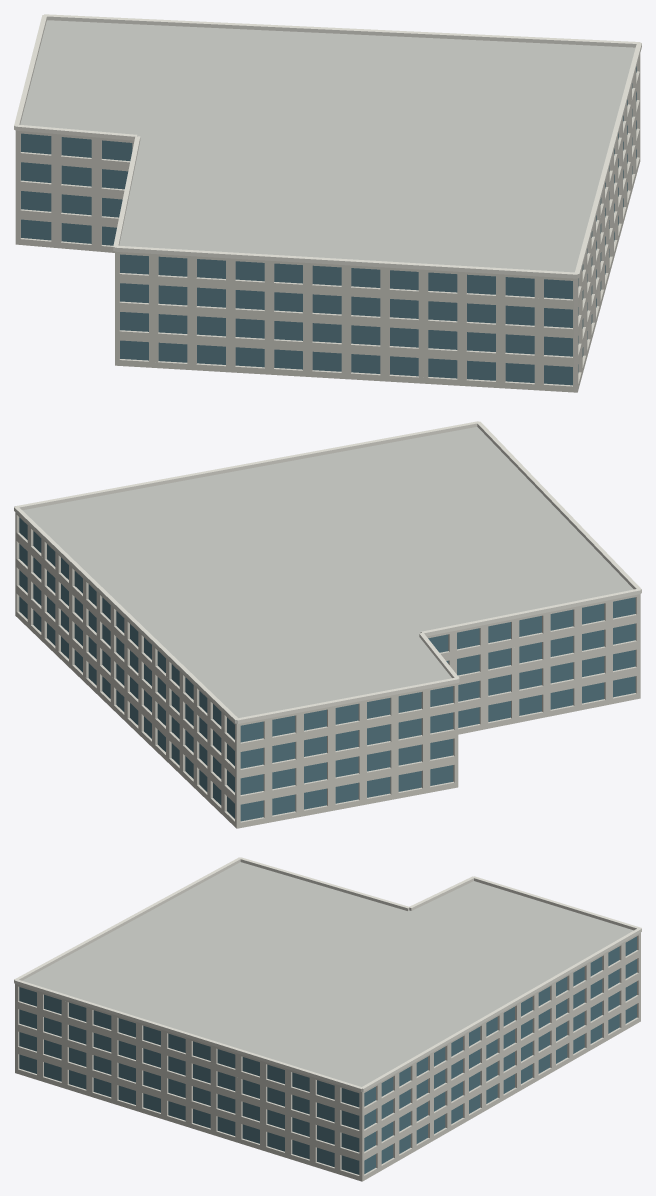
The model's file is sb_1556523917.far.glb.
3 renders of one model, top to bottom at view 1: azimuth 30°, elevation 25°; view 2: azimuth 150°, elevation 25°; view 3: azimuth 270°, elevation 25°, orthographic. The views are drawn at different scales.
Parts seen in each view (by area): view 1: roof, wall, glass, trim; view 2: roof, wall, glass, trim; view 3: roof, wall, glass, trim.
Boxes of the visible parts, x1=… form: roof: x1=20, y1=20, x2=635, y2=272; wall: x1=15, y1=54, x2=640, y2=392; glass: x1=21, y1=66, x2=636, y2=385; trim: x1=14, y1=14, x2=641, y2=278; roof: x1=23, y1=427, x2=633, y2=717; wall: x1=15, y1=512, x2=640, y2=828; glass: x1=19, y1=517, x2=635, y2=821; trim: x1=14, y1=421, x2=641, y2=723; roof: x1=22, y1=862, x2=633, y2=1086; wall: x1=15, y1=932, x2=640, y2=1181; glass: x1=19, y1=936, x2=636, y2=1174; trim: x1=14, y1=857, x2=641, y2=1091.
Bounding box in the file's own units: 69.64 × 13.04 × 79.7.
